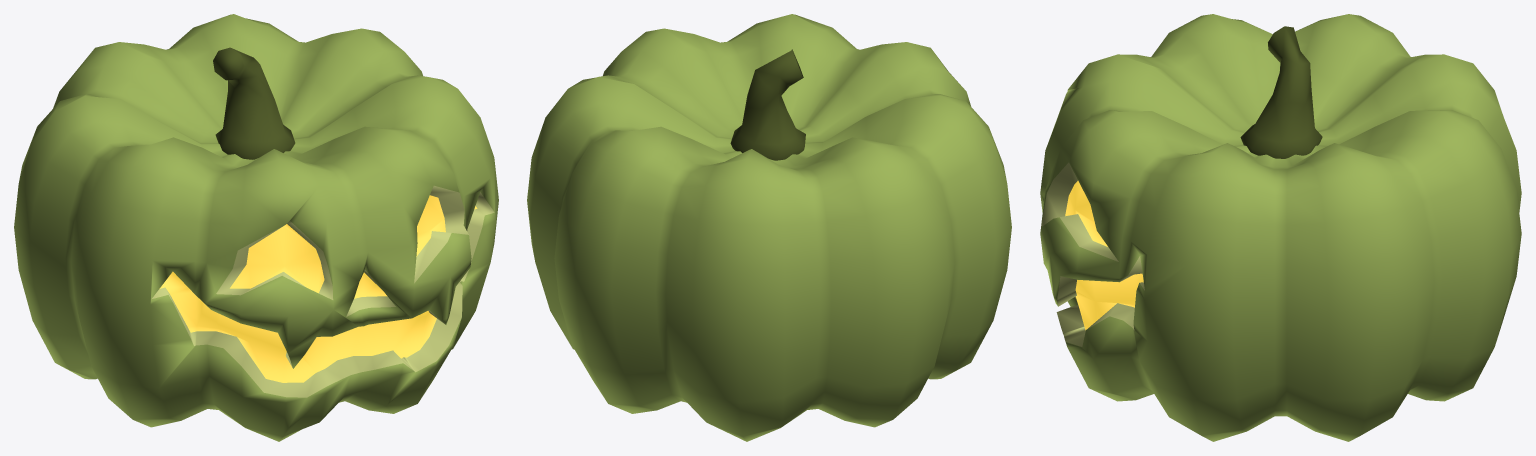
The model's file is JackOLanternCheerful.glb.
3 renders of one model, left to right at view 1: azimuth 30°, elevation 25°; view 2: azimuth 150°, elevation 25°; view 3: azimuth 270°, elevation 25°, orthographic. The views are drawn at different scales.
Parts seen in each view (by area): view 1: BasePumpkinWithDecimatedStemAndFlatBottom.001; view 2: BasePumpkinWithDecimatedStemAndFlatBottom.001; view 3: BasePumpkinWithDecimatedStemAndFlatBottom.001.
Part boxes in pixels (x1,y1,x2,y2): BasePumpkinWithDecimatedStemAndFlatBottom.001: (14,14,498,441); BasePumpkinWithDecimatedStemAndFlatBottom.001: (527,14,1011,441); BasePumpkinWithDecimatedStemAndFlatBottom.001: (1040,14,1521,441).
Size of the model in its own units: 1.92 by 1.47 by 1.92.
2 materials, 1 textured.
